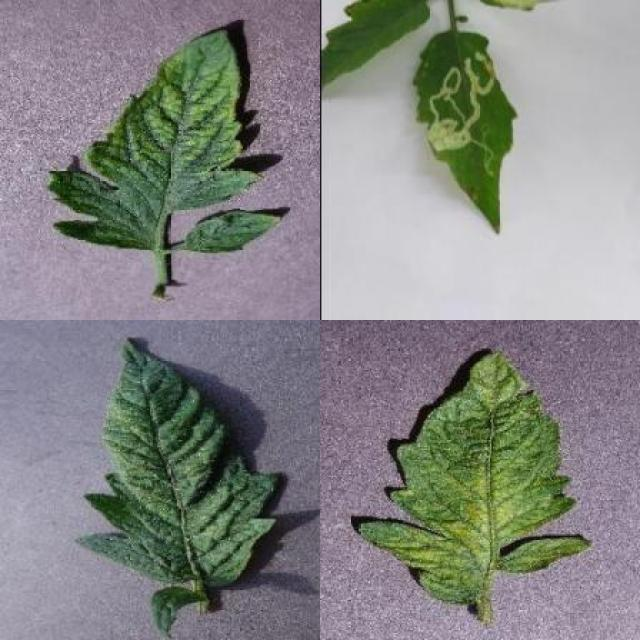Leaf Miner: (415, 32, 518, 235)
Mosaic Virus: (358, 347, 595, 607), (45, 27, 282, 254)
Spider Mites: (75, 336, 278, 588)
